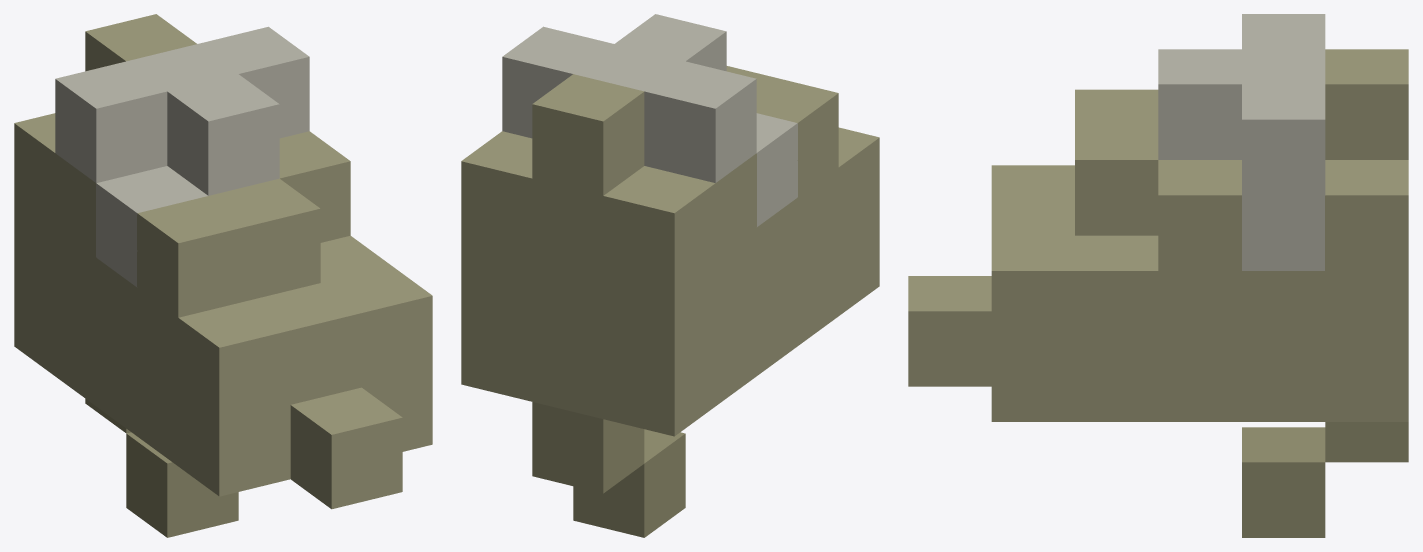
Rendered from NB_TR_F_foot_l.fbx.
3 views of the same model, side by side, from view 1: azimuth 30°, elevation 25°; view 2: azimuth 150°, elevation 25°; view 3: azimuth 270°, elevation 25° (orthographic).
Visible parts, largest first — view 1: foot_l; view 2: foot_l; view 3: foot_l.
Boxes of the visible parts, <box> form: foot_l: <box>14,14,432,537</box>; foot_l: <box>461,14,879,537</box>; foot_l: <box>908,14,1408,537</box>.
Size of the model in its own units: 3 by 6 by 6.
Materials: 1 (1 with a texture image).
